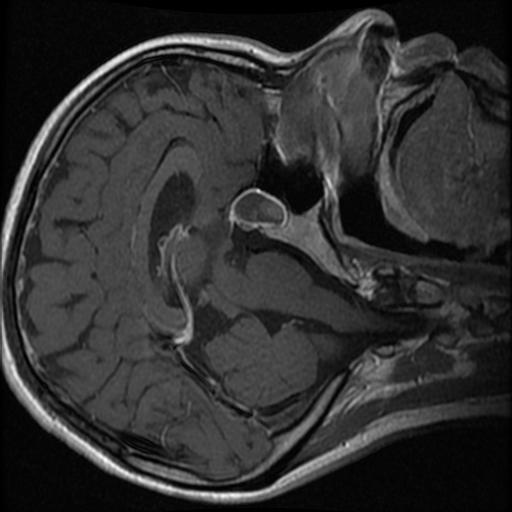pituitary tumour: (230, 189, 284, 227)
